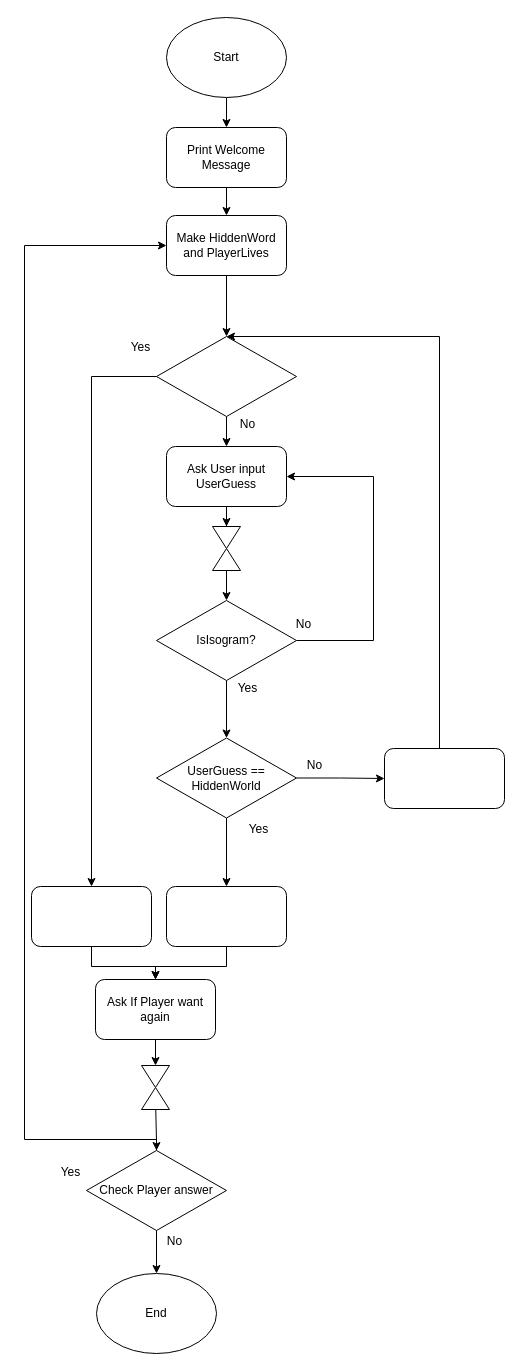
Some shapes in this 522 by 1371 pixel diagram are drawn without their labels. The shapes that lost their labels are listed below. From the top down, each one's centre as x and y in pixels, then its label:
the point at 226,376: PlayerLives == 0
the point at 444,778: PlayrLives--
the point at 91,916: Print lose message
the point at 226,916: Print won message
